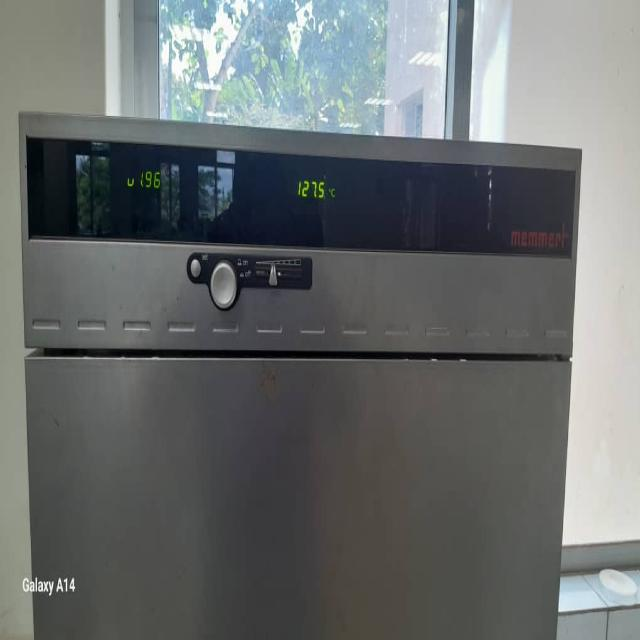Incubator: (15, 113, 581, 640)
